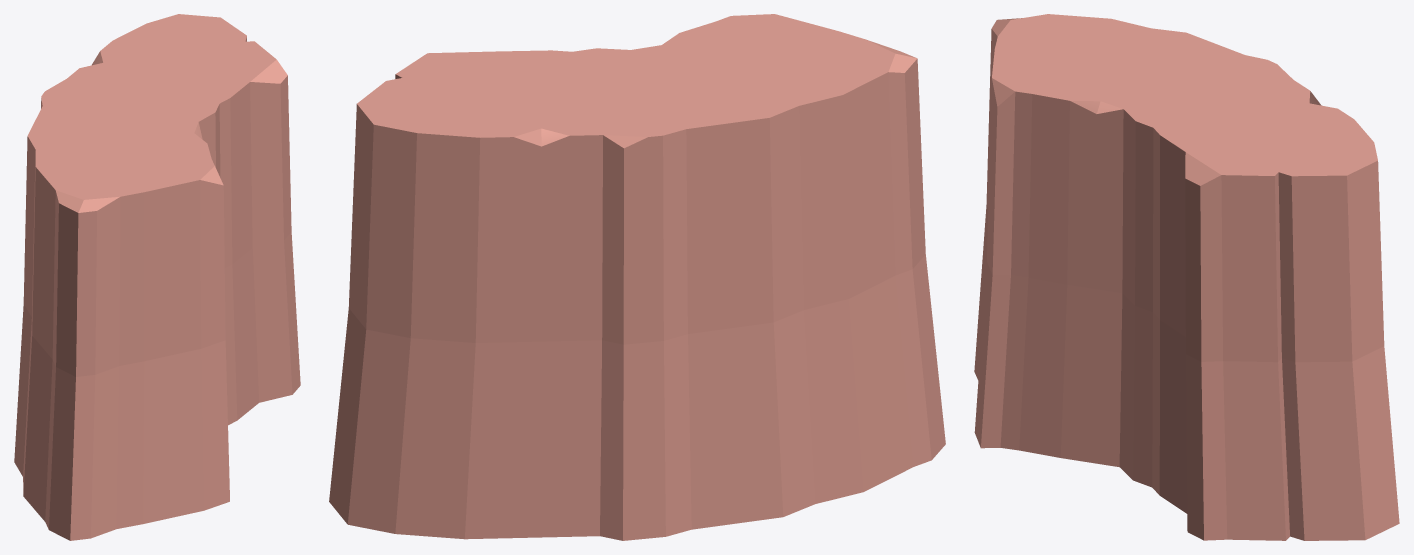
File: SuperGrid_RingQuarter_020_Vlad.fbx
3 views of the same model, side by side, from view 1: azimuth 30°, elevation 25°; view 2: azimuth 150°, elevation 25°; view 3: azimuth 270°, elevation 25° (orthographic). The views are drawn at different scales.
Parts seen in each view (by area): view 1: SuperGrid_RingQuarter.020; view 2: SuperGrid_RingQuarter.020; view 3: SuperGrid_RingQuarter.020.
Boxes of the visible parts, x1=… form: SuperGrid_RingQuarter.020: x1=14, y1=14, x2=300, y2=540; SuperGrid_RingQuarter.020: x1=329, y1=14, x2=945, y2=540; SuperGrid_RingQuarter.020: x1=974, y1=14, x2=1399, y2=540.
Size of the model in its own units: 545 by 500 by 540.
